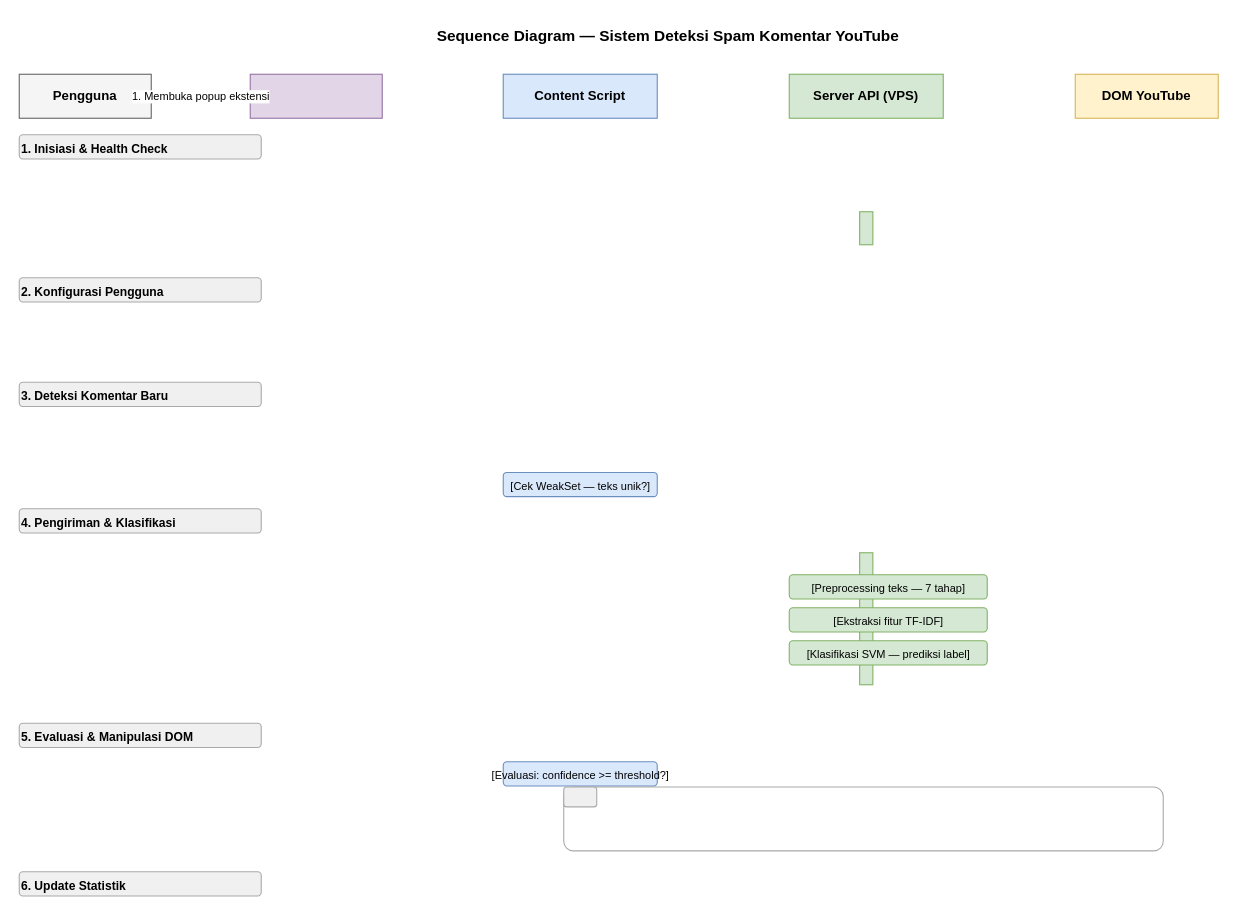
Image size: 1238x915. Some labels were removed from this diagram. Here are the shapes that lost their labels. From the top down, the box of each, then its label:
(249, 73, 382, 118): Popup UI
(563, 786, 597, 807): alt
